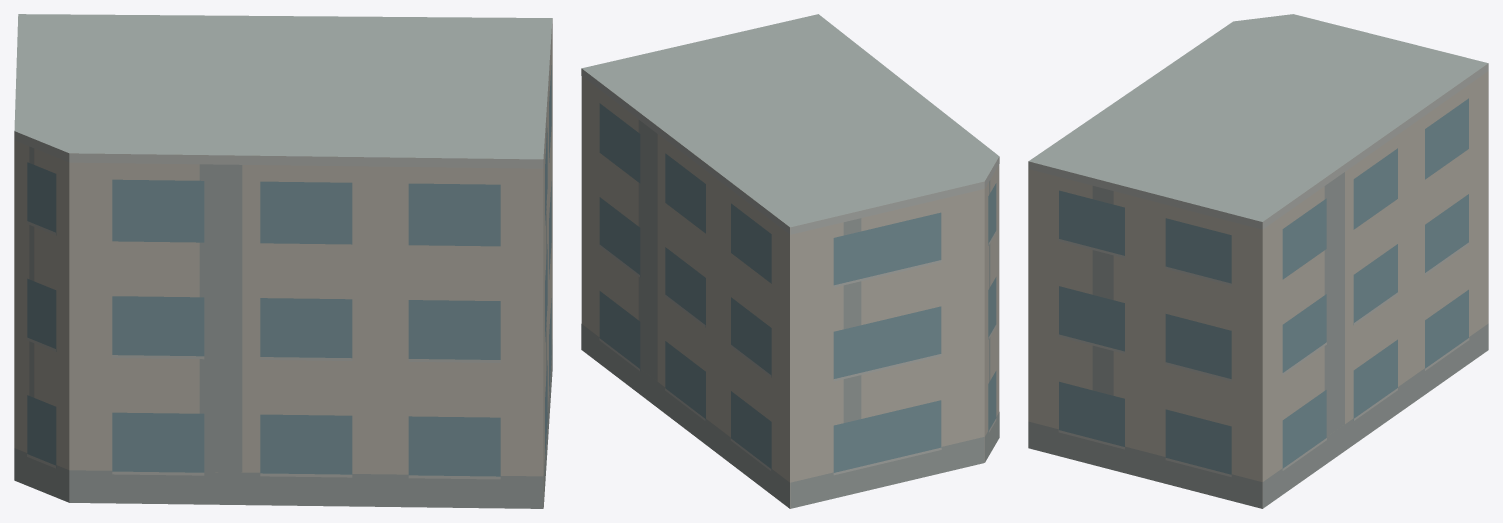
The model's file is residential-cf7c5308-9e76-4528-bc3f-5e41a7e170fb.glb.
3 renders of one model, left to right at view 1: azimuth 30°, elevation 25°; view 2: azimuth 150°, elevation 25°; view 3: azimuth 270°, elevation 25°, orthographic. The views are drawn at different scales.
Visible parts, largest first — view 1: residential-cf7c5308-9e76-4528-bc3f-5e41a7e170fb.tmp; view 2: residential-cf7c5308-9e76-4528-bc3f-5e41a7e170fb.tmp; view 3: residential-cf7c5308-9e76-4528-bc3f-5e41a7e170fb.tmp.
Part boxes in pixels (x1=…): residential-cf7c5308-9e76-4528-bc3f-5e41a7e170fb.tmp: x1=14, y1=14, x2=552, y2=508; residential-cf7c5308-9e76-4528-bc3f-5e41a7e170fb.tmp: x1=581, y1=14, x2=999, y2=508; residential-cf7c5308-9e76-4528-bc3f-5e41a7e170fb.tmp: x1=1028, y1=14, x2=1488, y2=508.
Size of the model in its own units: 14.24 by 9.15 by 13.31.
